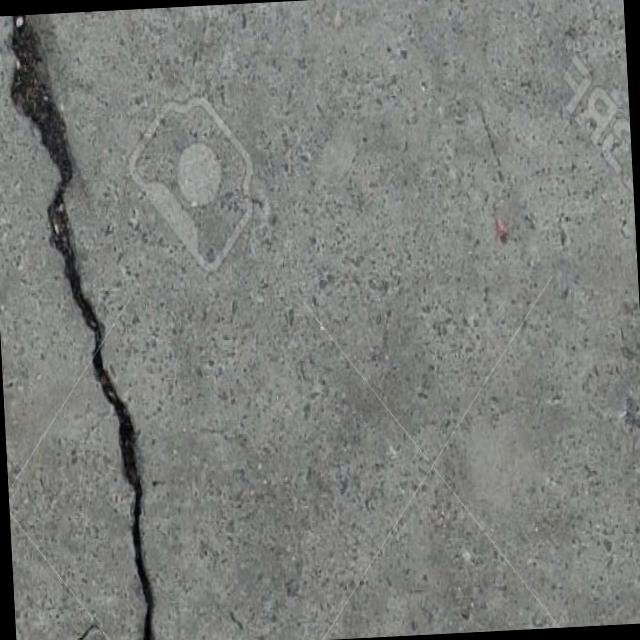crack: (2, 9, 160, 640)
